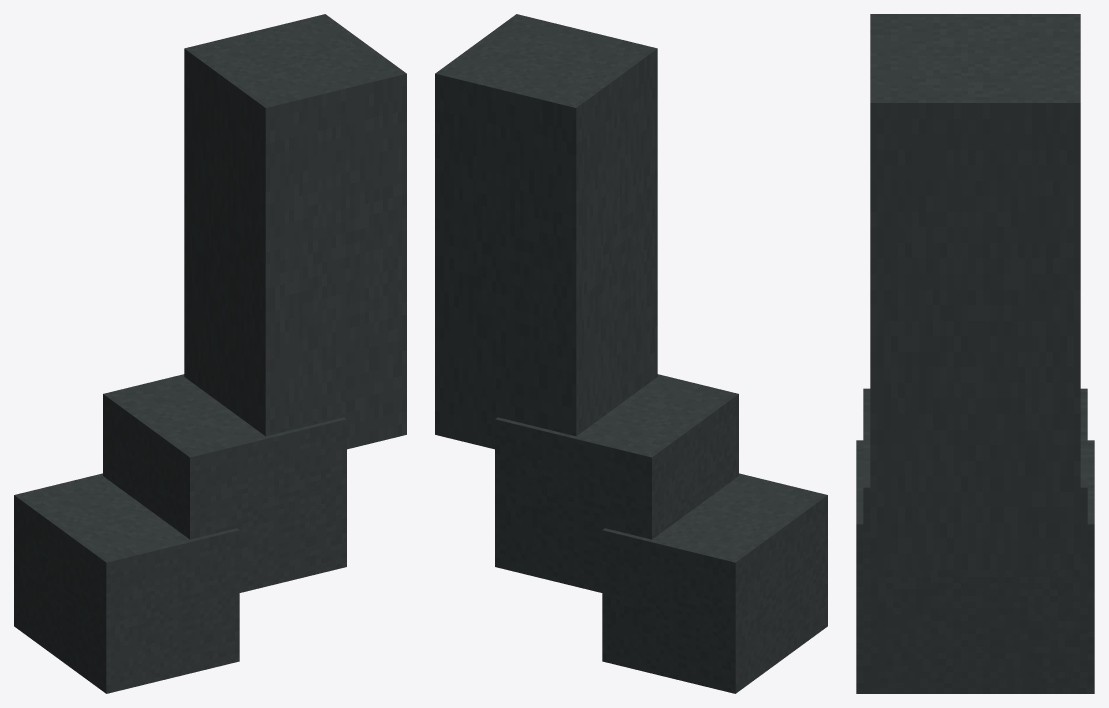
The model's file is Ironhawk50_Trigger.glb.
The picture shows the model from 3 angles, left to right: view 1: azimuth 30°, elevation 25°; view 2: azimuth 150°, elevation 25°; view 3: azimuth 270°, elevation 25°; orthographic projection. The views are drawn at different scales.
Parts seen in each view (by area): view 1: Trigger upper, Trigger hook, Trigger middle; view 2: Trigger upper, Trigger hook, Trigger middle; view 3: Trigger upper, Trigger middle, Trigger hook.
Boxes of the visible parts, x1,y1,x2,y2 form: Trigger upper: [184, 14, 406, 449]; Trigger hook: [14, 473, 239, 693]; Trigger middle: [103, 374, 346, 592]; Trigger upper: [435, 14, 657, 449]; Trigger hook: [602, 473, 827, 693]; Trigger middle: [495, 374, 738, 592]; Trigger upper: [870, 14, 1080, 569]; Trigger middle: [863, 388, 1087, 678]; Trigger hook: [856, 440, 1094, 693].
Bounding box in the file's own units: 0.0195 × 0.033 × 0.0102.
1 material, 1 textured.
